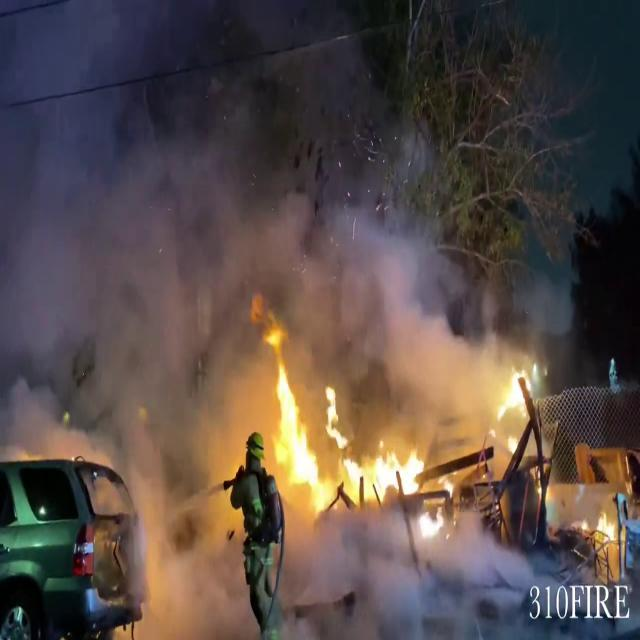Fire: (262, 348, 429, 517), (492, 358, 544, 422)
Smoke: (0, 1, 506, 426)
